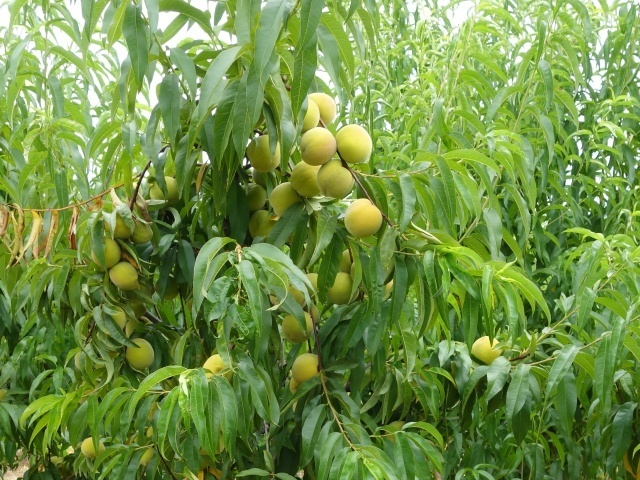peach: (342, 194, 384, 241), (331, 121, 374, 166), (299, 124, 340, 169), (318, 156, 357, 201), (246, 130, 286, 172), (288, 350, 328, 392), (290, 158, 327, 203), (87, 234, 123, 273), (267, 182, 306, 218), (124, 337, 159, 377), (307, 87, 342, 127), (467, 332, 505, 368), (195, 349, 233, 384), (107, 258, 142, 294), (281, 310, 317, 345), (322, 269, 356, 305), (148, 174, 182, 207), (246, 205, 276, 240), (103, 214, 139, 241), (297, 95, 324, 129), (241, 181, 270, 211), (131, 216, 157, 249), (343, 258, 369, 290), (79, 433, 108, 461)
